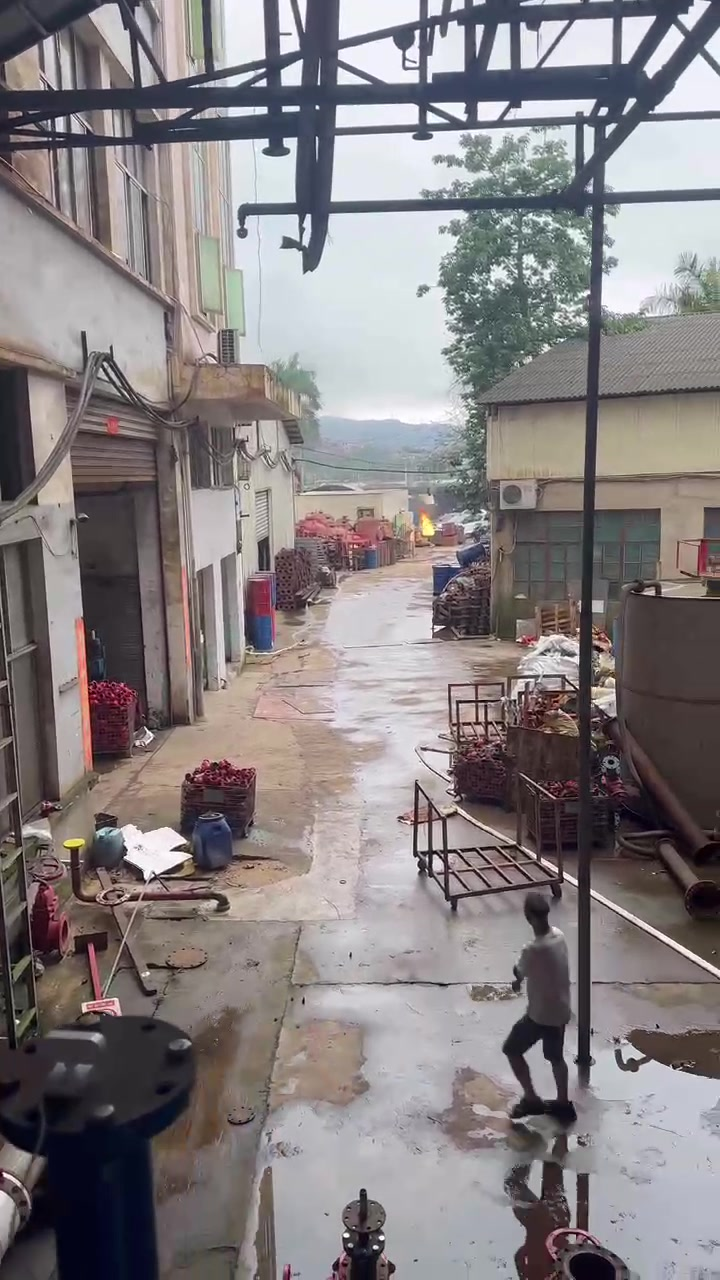fire: (421, 512, 433, 535)
